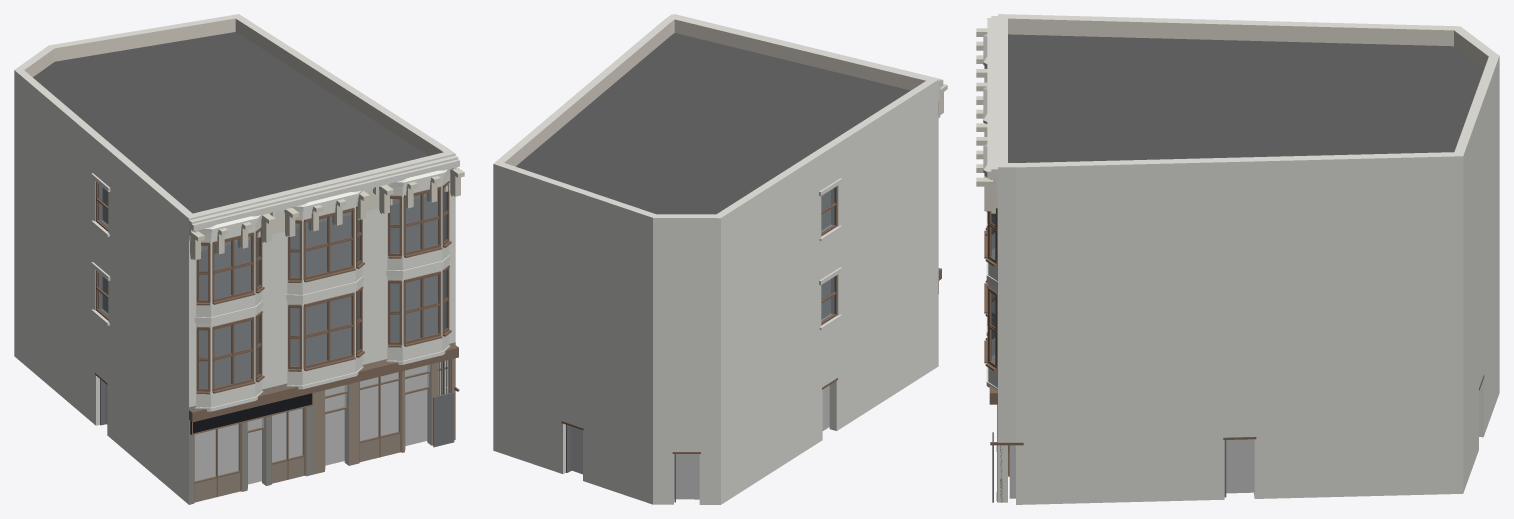
The model's file is exterior.glb.
The picture shows the model from 3 angles, left to right: view 1: azimuth 30°, elevation 25°; view 2: azimuth 150°, elevation 25°; view 3: azimuth 270°, elevation 25°; orthographic projection. The views are drawn at different scales.
Visible parts, largest first — view 1: shell, roof, bay-glazing-hyb, shadow-proxy, bay-windows-hyb, glazing, storefront, front-dressing-r4, trim, string-course, sign-bands, frames; view 2: shell, roof, shadow-proxy, trim, glazing, frames; view 3: shell, roof, shadow-proxy, trim, bay-glazing-hyb, front-dressing-r4, bay-windows-hyb, storefront.
Part boxes in pixels (x1=…): shell: x1=14, y1=14, x2=455, y2=504; roof: x1=33, y1=32, x2=428, y2=213; bay-glazing-hyb: x1=196, y1=181, x2=451, y2=394; shadow-proxy: x1=103, y1=188, x2=440, y2=484; bay-windows-hyb: x1=194, y1=169, x2=450, y2=411; glazing: x1=98, y1=184, x2=448, y2=481; storefront: x1=95, y1=359, x2=459, y2=502; front-dressing-r4: x1=189, y1=167, x2=464, y2=260; trim: x1=91, y1=155, x2=459, y2=325; string-course: x1=189, y1=345, x2=458, y2=422; sign-bands: x1=190, y1=393, x2=313, y2=435; frames: x1=95, y1=182, x2=108, y2=320; shell: x1=493, y1=14, x2=938, y2=504; roof: x1=516, y1=33, x2=910, y2=214; shadow-proxy: x1=570, y1=190, x2=830, y2=499; trim: x1=673, y1=14, x2=943, y2=330; glazing: x1=821, y1=188, x2=834, y2=321; frames: x1=821, y1=186, x2=837, y2=325; shell: x1=998, y1=14, x2=1499, y2=504; roof: x1=1008, y1=34, x2=1484, y2=162; shadow-proxy: x1=1009, y1=439, x2=1253, y2=498; trim: x1=987, y1=16, x2=997, y2=193; bay-glazing-hyb: x1=984, y1=208, x2=997, y2=370; front-dressing-r4: x1=976, y1=28, x2=997, y2=213; bay-windows-hyb: x1=983, y1=34, x2=997, y2=389; storefront: x1=990, y1=375, x2=1484, y2=502.
Size of the model in its own units: 12.09 by 12.38 by 17.38.
